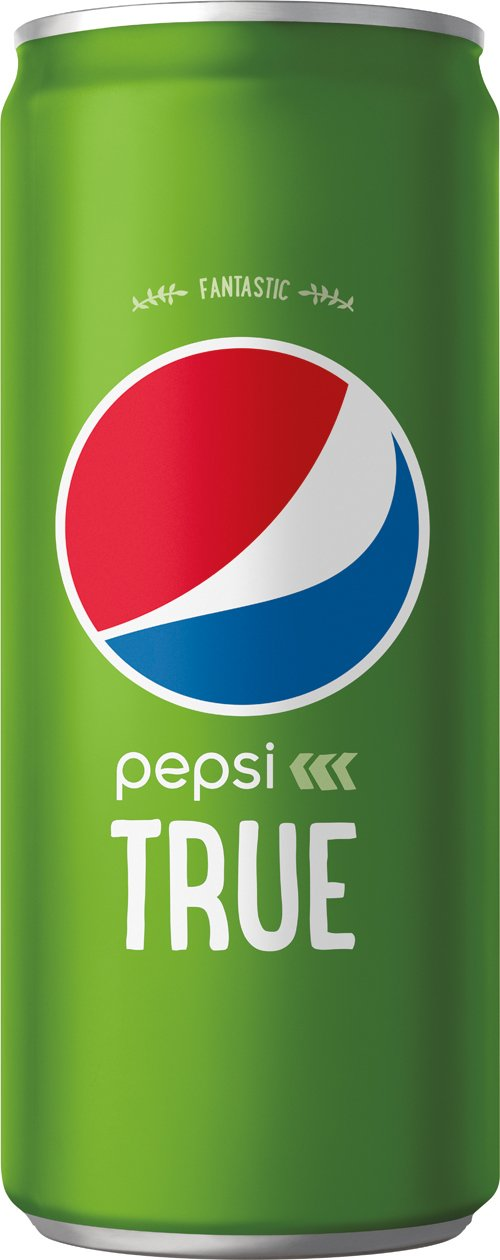pepsi: (53, 331, 436, 716), (53, 343, 436, 716)
